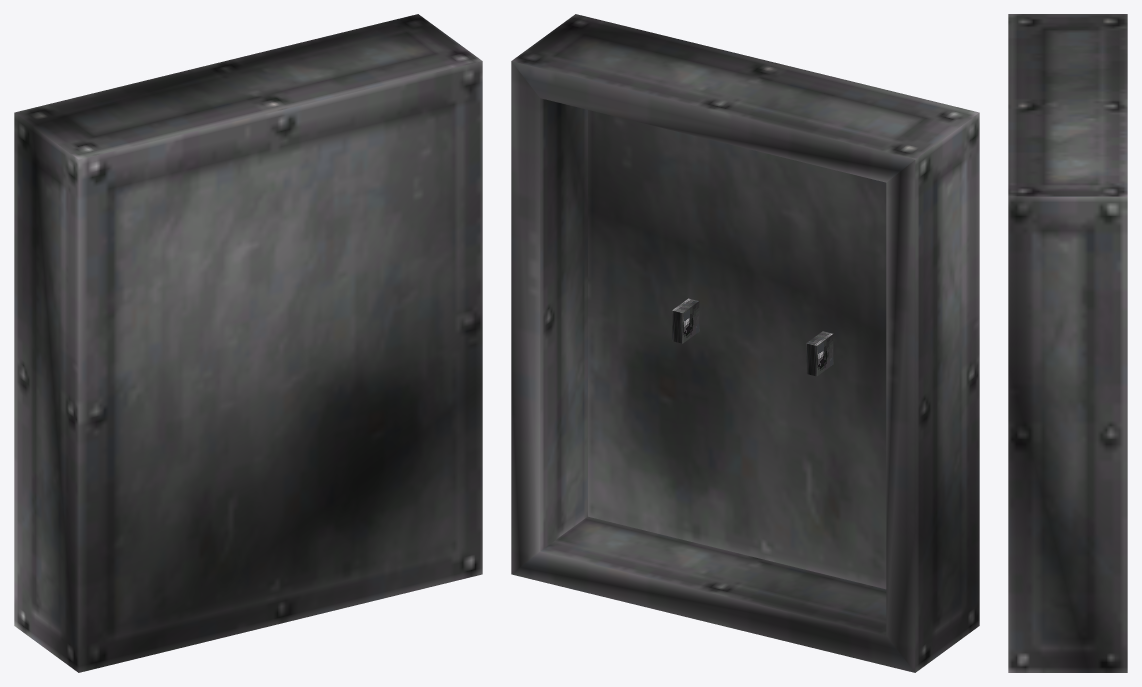
Rendered from INST_SWORDLIGHT_LOCKBOX_BROKE.fbx.
3 renders of one model, left to right at view 1: azimuth 30°, elevation 25°; view 2: azimuth 150°, elevation 25°; view 3: azimuth 270°, elevation 25°, orthographic. The views are drawn at different scales.
Visible parts, largest first — view 1: INST_SWORDLIGHT_LOCKBOX_BROKE; view 2: INST_SWORDLIGHT_LOCKBOX_BROKE; view 3: INST_SWORDLIGHT_LOCKBOX_BROKE.
Part boxes in pixels (box(x1,y1,x2,y2)): INST_SWORDLIGHT_LOCKBOX_BROKE: box(14, 14, 482, 672); INST_SWORDLIGHT_LOCKBOX_BROKE: box(511, 14, 979, 672); INST_SWORDLIGHT_LOCKBOX_BROKE: box(1008, 14, 1127, 672).
Bounding box in the file's own units: 7000 × 8500 × 1931.
2 materials, 2 textured.
